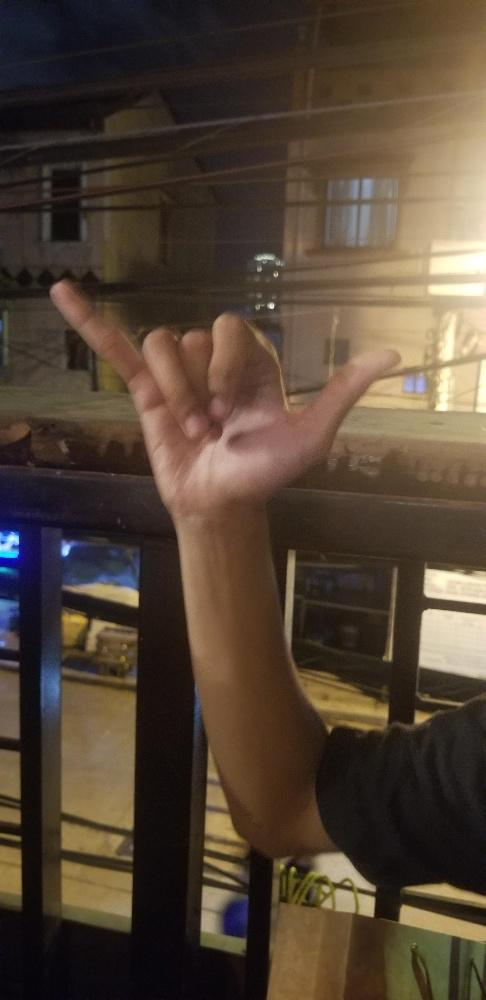y: (48, 278, 401, 502)
